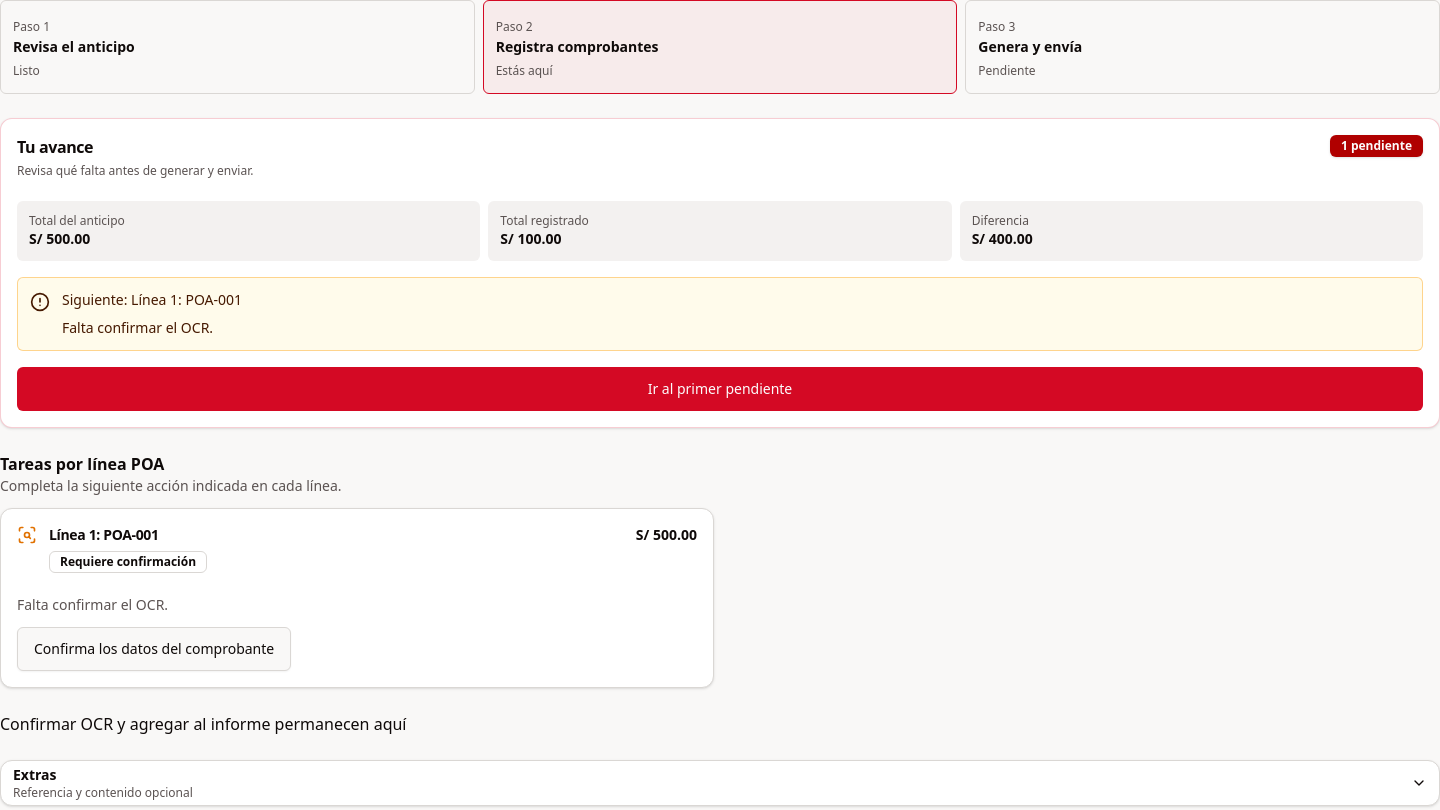
it: SettlementPreparationFlow › integra panel, tareas por línea y Extras sin mover acciones del contenido existente
Expected: the element with test id "settlement-pending-panel" is shown, 0,118 -> 1439,428
Expected: the element with test id "settlement-line-task-allocation-1" is shown, 0,508 -> 714,688
Click the button "Ir al primer pendiente" at (720, 389), box 17,367 -> 1423,411
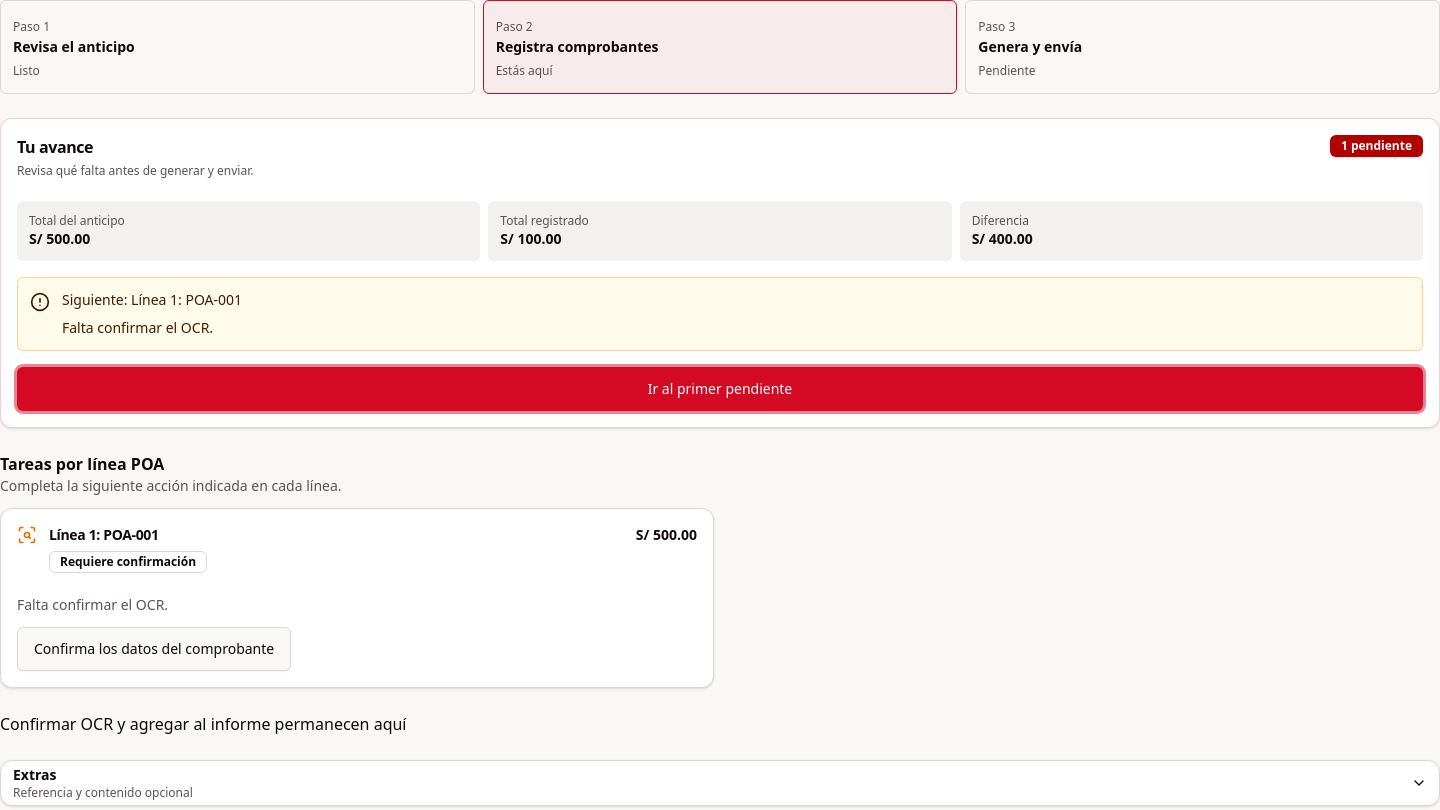
Click the button "Extras Referencia y contenido opcional" at (35, 775), box 1,761 -> 1439,805
(page scrolled)
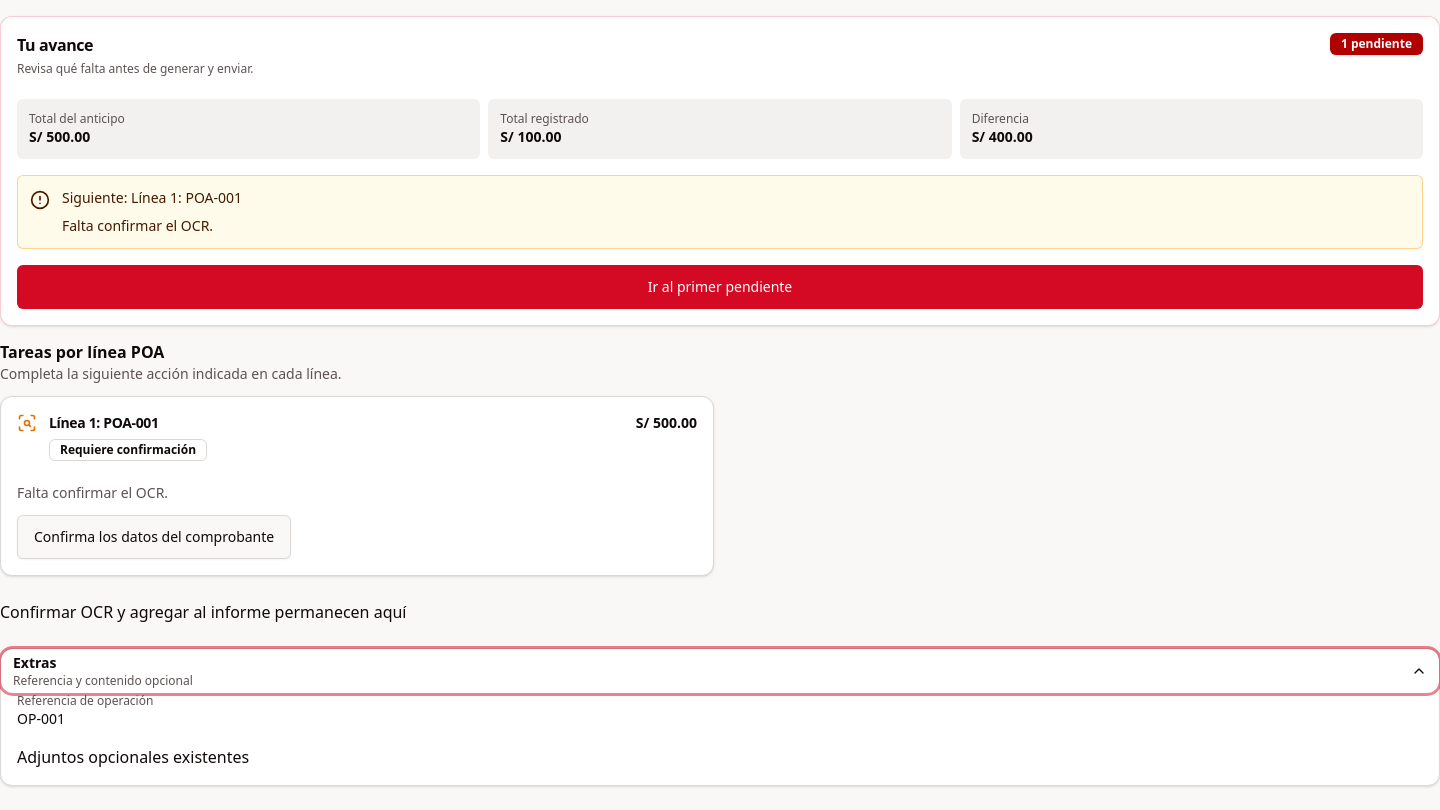
Now the text "OP-001" is shown, box 17,709 -> 65,728
Now the text "Adjuntos opcionales existentes" is shown, box 17,746 -> 249,768
